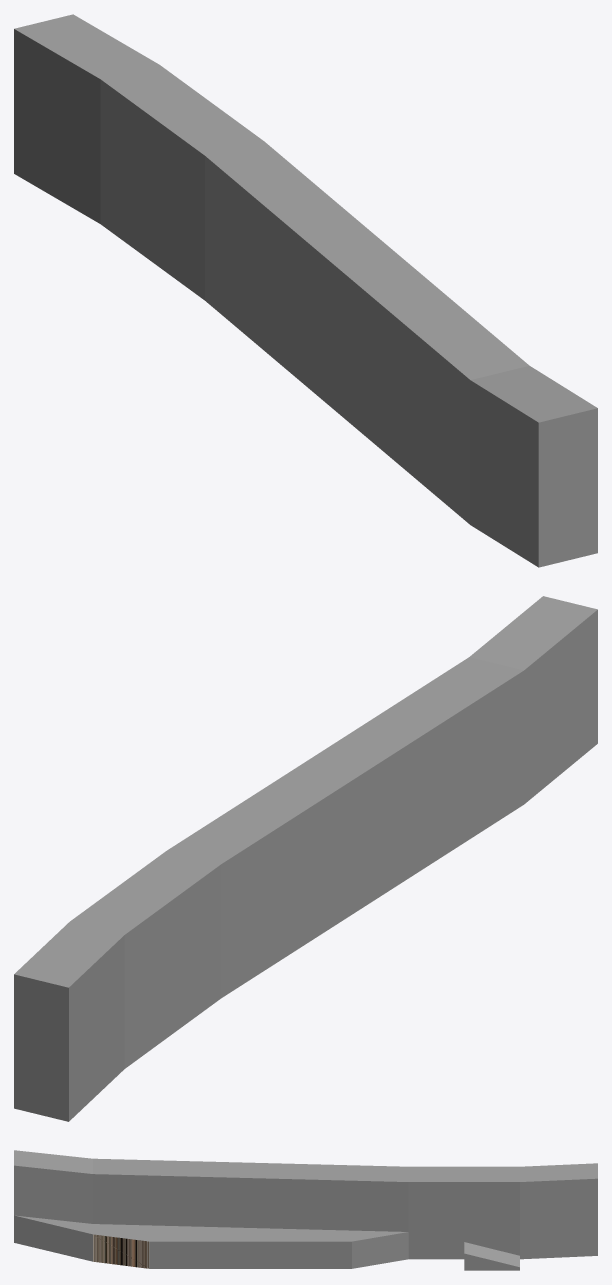
File: someShit16.obj
3 views of the same model, one above another, from view 1: azimuth 30°, elevation 25°; view 2: azimuth 150°, elevation 25°; view 3: azimuth 270°, elevation 25° (orthographic). The views are drawn at different scales.
Visible parts, largest first — view 1: Plane.016_Plane.017; view 2: Plane.016_Plane.017; view 3: Plane.016_Plane.017.
Part boxes in pixels (x1=…): Plane.016_Plane.017: x1=14, y1=14, x2=597, y2=567; Plane.016_Plane.017: x1=14, y1=596, x2=597, y2=1121; Plane.016_Plane.017: x1=14, y1=1150, x2=597, y2=1270.
Bounding box in the file's own units: 76.38 × 82.45 × 518.
3 materials, 2 textured.
